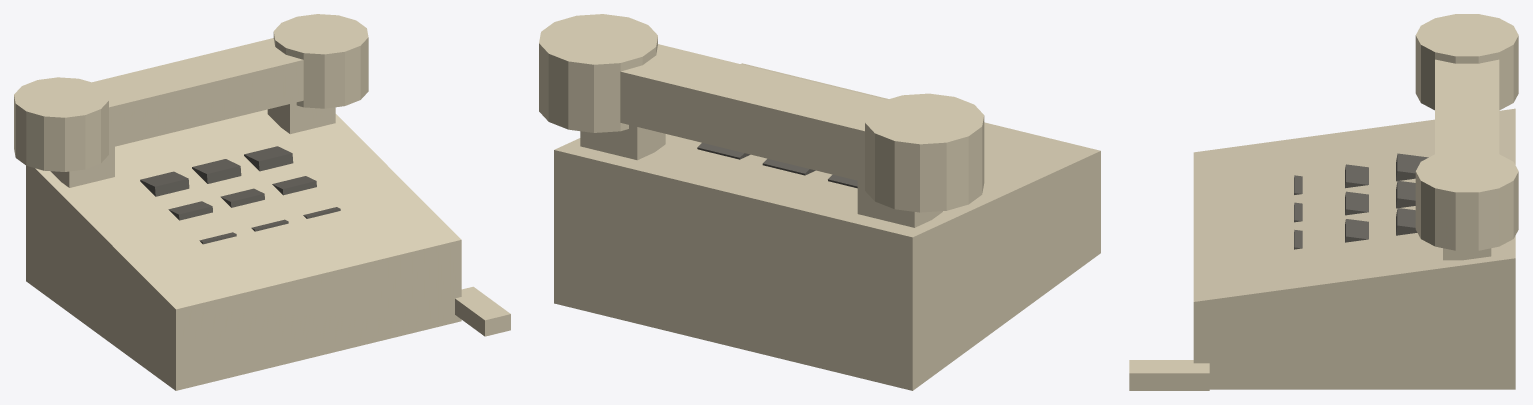
File: SM_DeskPhone.fbx
3 views of the same model, side by side, from view 1: azimuth 30°, elevation 25°; view 2: azimuth 150°, elevation 25°; view 3: azimuth 270°, elevation 25° (orthographic). The views are drawn at different scales.
Visible parts, largest first — view 1: SM_DeskPhone; view 2: SM_DeskPhone; view 3: SM_DeskPhone.
Boxes of the visible parts, box(x1,y1,x2,y2) form: SM_DeskPhone: box(14, 14, 510, 390); SM_DeskPhone: box(539, 14, 1100, 390); SM_DeskPhone: box(1129, 14, 1518, 390).
Bounding box in the file's own units: 26.24 × 24.2 × 14.5.
